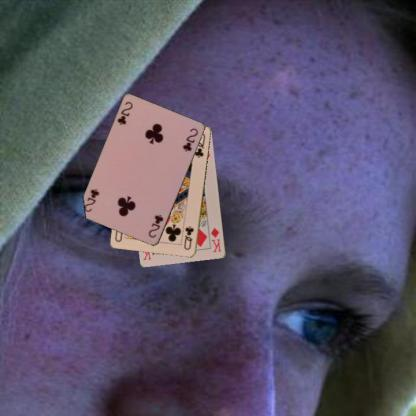2c: (115, 100, 134, 126), (146, 212, 164, 239)
Kd: (208, 225, 223, 254)
Qc: (181, 224, 195, 251)
